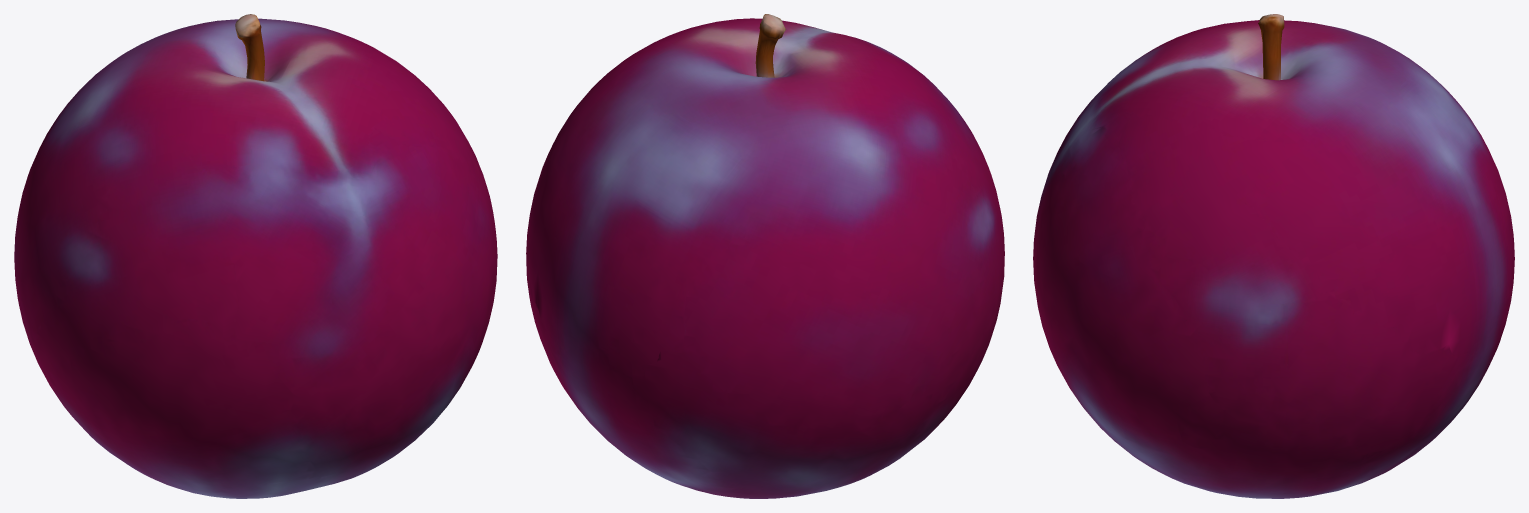
Rendered from plum.glb.
The picture shows the model from 3 angles, left to right: view 1: azimuth 30°, elevation 25°; view 2: azimuth 150°, elevation 25°; view 3: azimuth 270°, elevation 25°; orthographic projection.
Visible parts, largest first — view 1: material; view 2: material; view 3: material.
Part boxes in pixels (<box>): material: <box>14,14,497,498</box>; material: <box>526,14,1004,498</box>; material: <box>1033,14,1514,498</box>.
Bounding box in the file's own units: 1.1 × 1.13 × 1.1.
1 material, 1 textured.
